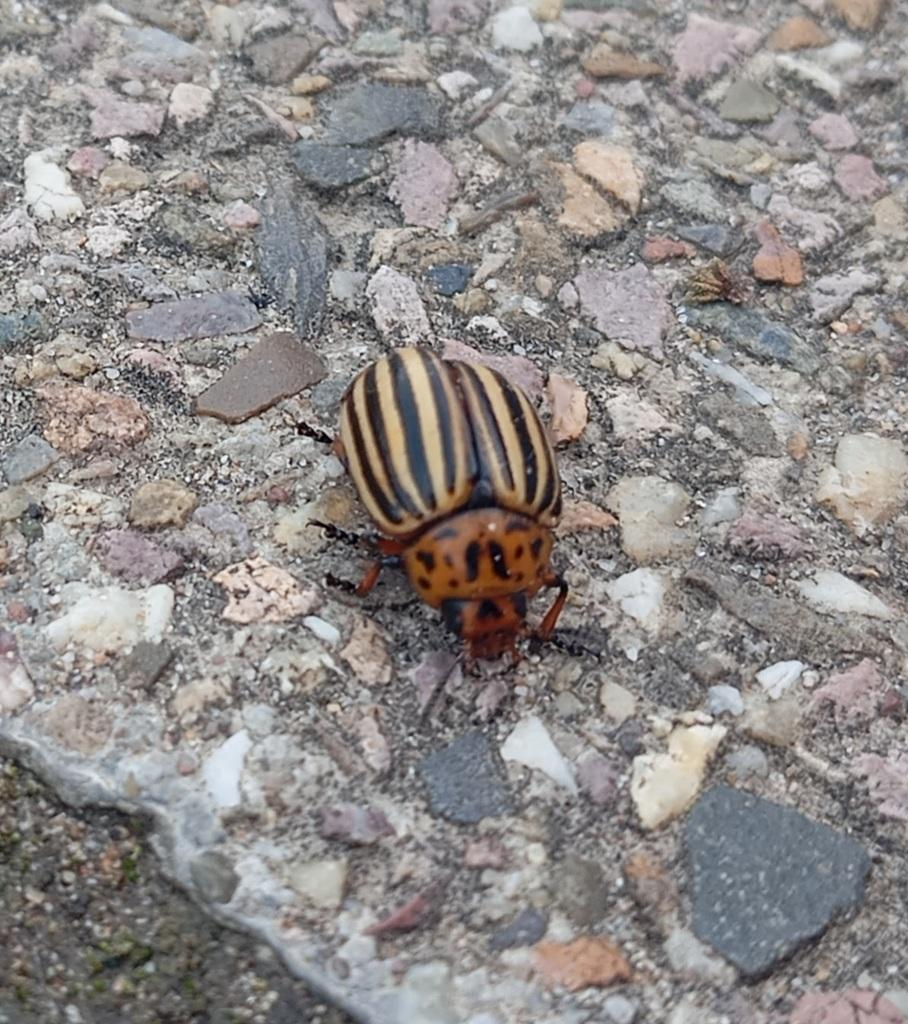potato_beetle: (245, 297, 723, 738)
